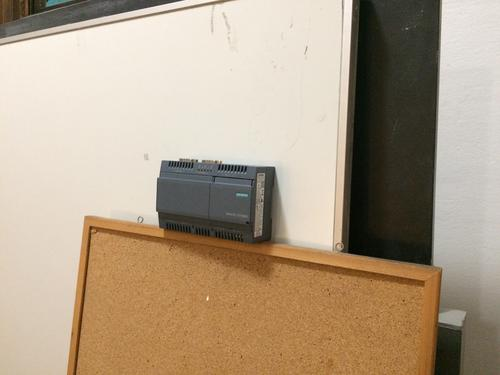iot2000: (156, 158, 277, 245)
